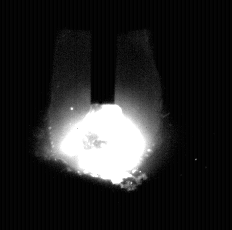arame: (91, 0, 116, 105)
poca: (48, 0, 162, 230)
